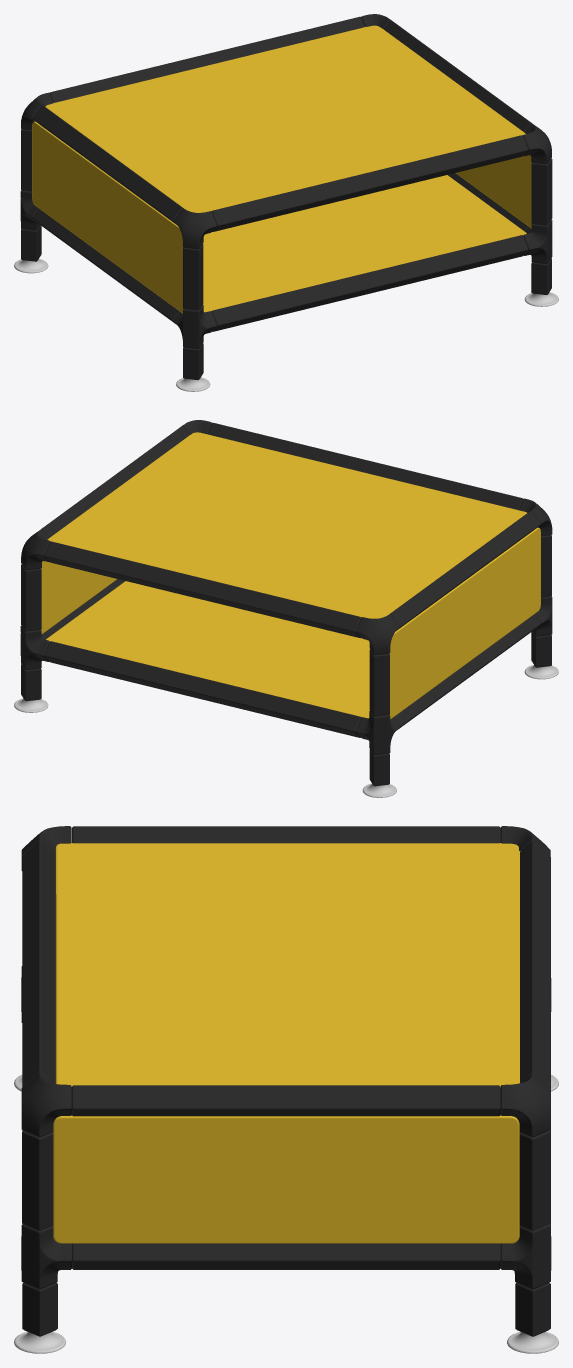
3 renders of one model, top to bottom at view 1: azimuth 30°, elevation 25°; view 2: azimuth 150°, elevation 25°; view 3: azimuth 270°, elevation 25°, orthographic. The views are drawn at different scales.
Visible parts, largest first — view 1: 420x329x79; view 2: 420x329x79; view 3: 420x329x79.
Boxes of the visible parts, bbox=[...] form: 420x329x79: bbox=[14, 14, 558, 391]; 420x329x79: bbox=[14, 420, 558, 797]; 420x329x79: bbox=[14, 826, 558, 1353].
Bounding box in the file's own units: 0.5099 × 0.2183 × 0.4183.
